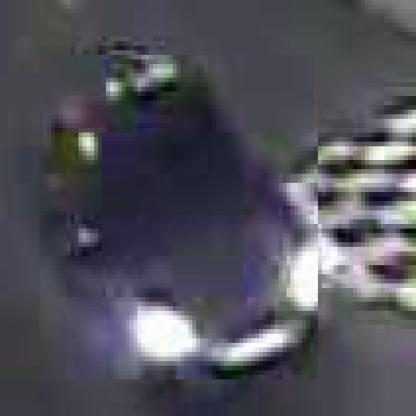car: (36, 56, 319, 385)
